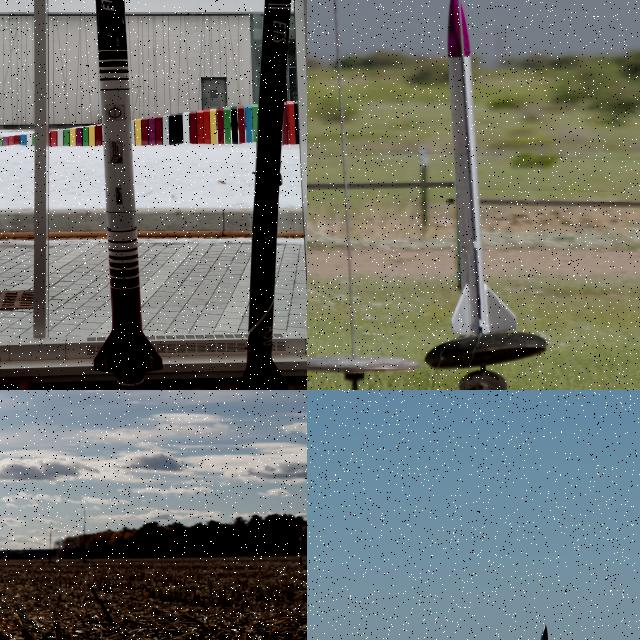Rocket: (436, 0, 522, 342), (93, 0, 163, 382), (237, 0, 292, 390), (297, 535, 303, 558)
